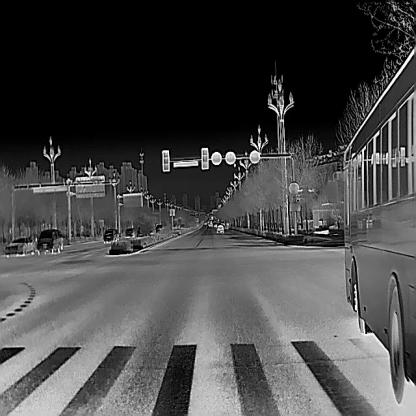bus: (342, 44, 416, 403)
car: (35, 228, 63, 254), (3, 235, 35, 256), (103, 227, 119, 243), (124, 226, 134, 238), (216, 224, 223, 233)
